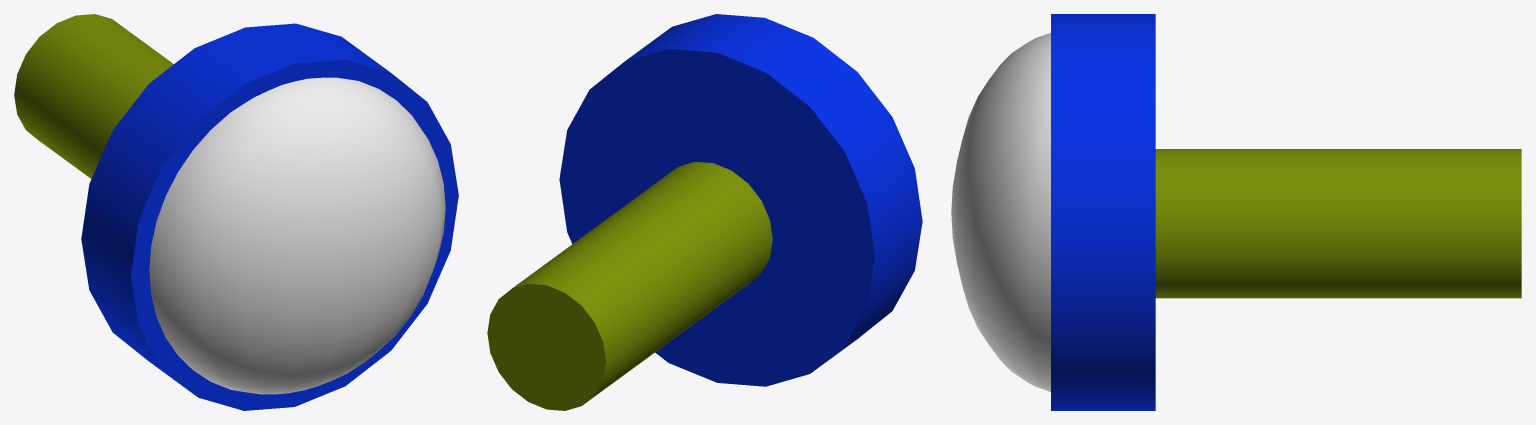
Rendered from FlashLight.fbx.
The picture shows the model from 3 angles, left to right: view 1: azimuth 30°, elevation 25°; view 2: azimuth 150°, elevation 25°; view 3: azimuth 270°, elevation 25°; orthographic projection. The views are drawn at different scales.
Parts seen in each view (by area): view 1: polySurface1; view 2: polySurface1; view 3: polySurface1.
Boxes of the visible parts, left/top/right/bottom form: polySurface1: left=14, top=14, right=458, bottom=410; polySurface1: left=487, top=14, right=922, bottom=410; polySurface1: left=951, top=14, right=1521, bottom=410.
Size of the model in its own units: 0.4741 by 0.4741 by 0.676.
